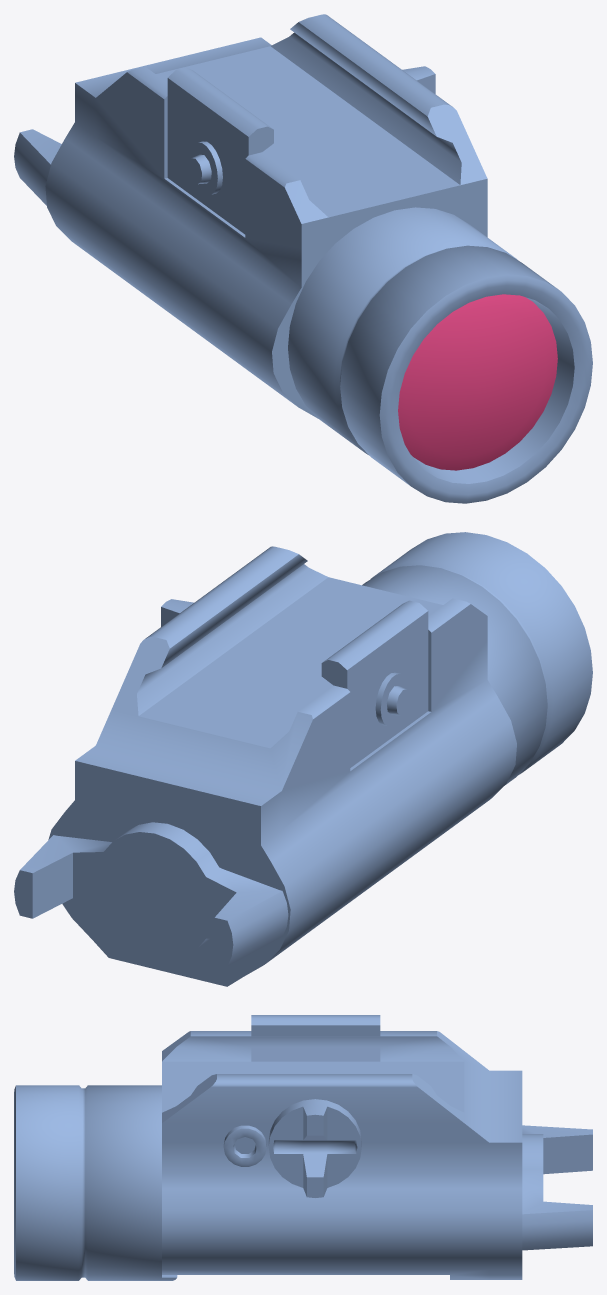
Rendered from WPN_PistolFlashlight.FBX.
The picture shows the model from 3 angles, top to bottom: view 1: azimuth 30°, elevation 25°; view 2: azimuth 150°, elevation 25°; view 3: azimuth 270°, elevation 25°; orthographic projection. The views are drawn at different scales.
Parts seen in each view (by area): view 1: WPN_PistolFlashLight, WPN_PistolFlashLight_lense; view 2: WPN_PistolFlashLight; view 3: WPN_PistolFlashLight.
Part boxes in pixels (x1,y1,x2,y2): WPN_PistolFlashLight: (14, 14, 592, 503); WPN_PistolFlashLight_lense: (398, 294, 557, 470); WPN_PistolFlashLight: (14, 532, 592, 986); WPN_PistolFlashLight: (14, 1015, 592, 1280).
Size of the model in its own units: 3.82 by 4.07 by 9.47.
